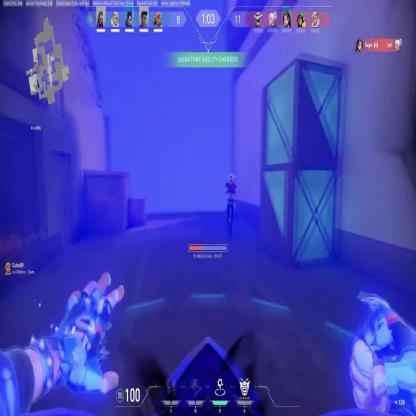enemy: (225, 172, 237, 238)
enemy_head: (227, 173, 236, 182)
